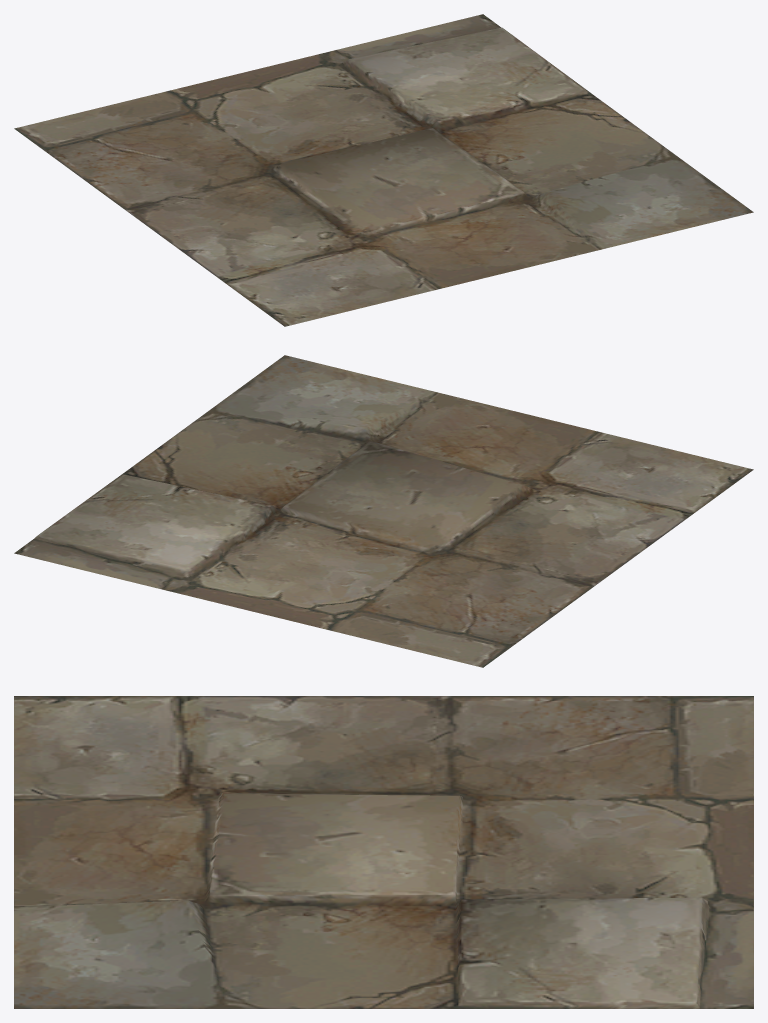
The model's file is nashgar_bottom_base4_ruins_02.FBX.
3 renders of one model, top to bottom at view 1: azimuth 30°, elevation 25°; view 2: azimuth 150°, elevation 25°; view 3: azimuth 270°, elevation 25°, orthographic. The views are drawn at different scales.
Visible parts, largest first — view 1: nashgar_bottom_base4_ruins_02; view 2: nashgar_bottom_base4_ruins_02; view 3: nashgar_bottom_base4_ruins_02.
Boxes of the visible parts, <box> form: nashgar_bottom_base4_ruins_02: <box>14,14,753,326</box>; nashgar_bottom_base4_ruins_02: <box>14,355,753,667</box>; nashgar_bottom_base4_ruins_02: <box>14,696,753,1008</box>.
Bounding box in the file's own units: 4 × 0.0719 × 4.
